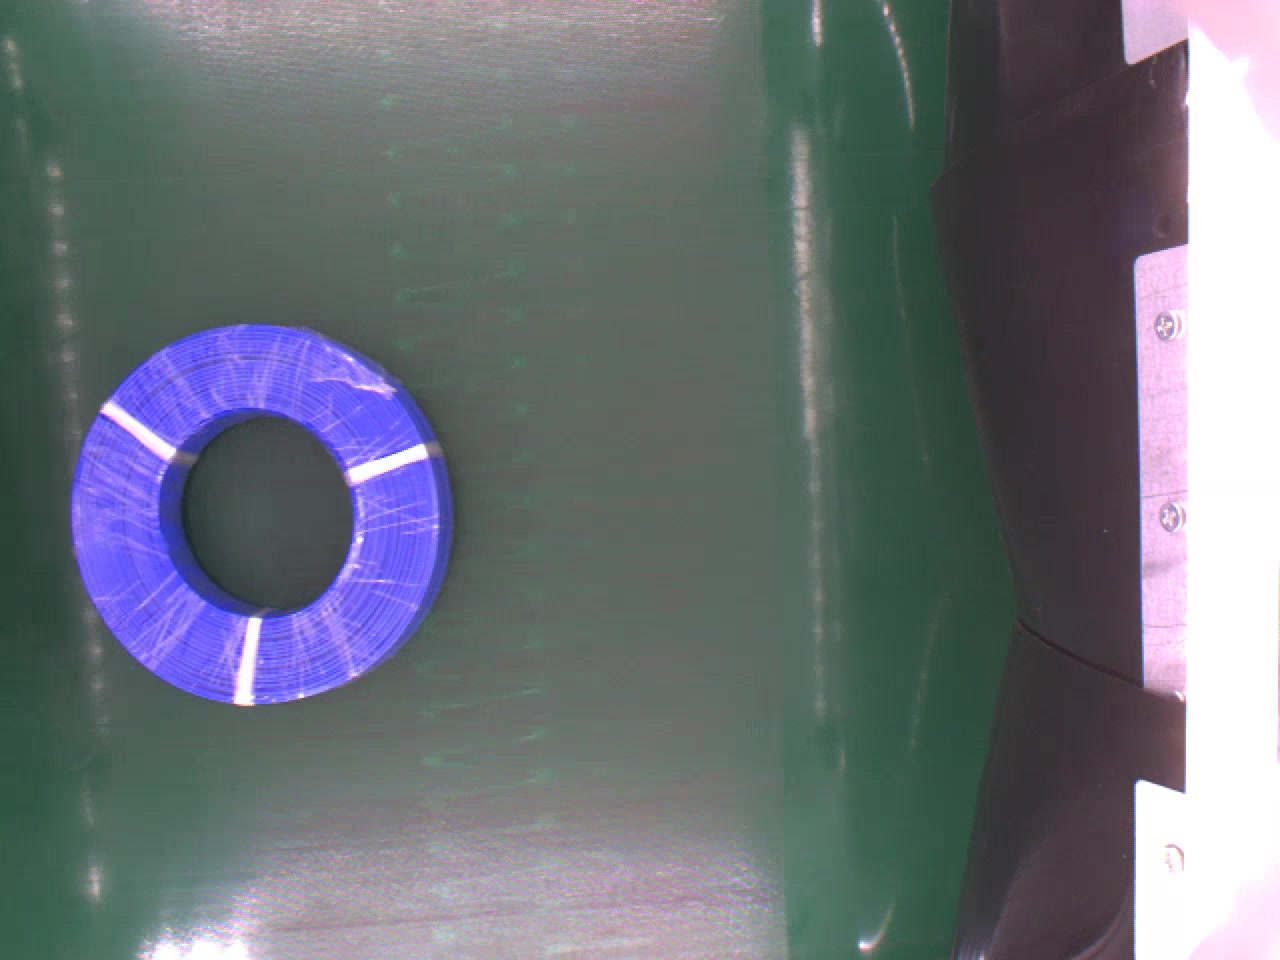blue: (69, 320, 452, 703)
